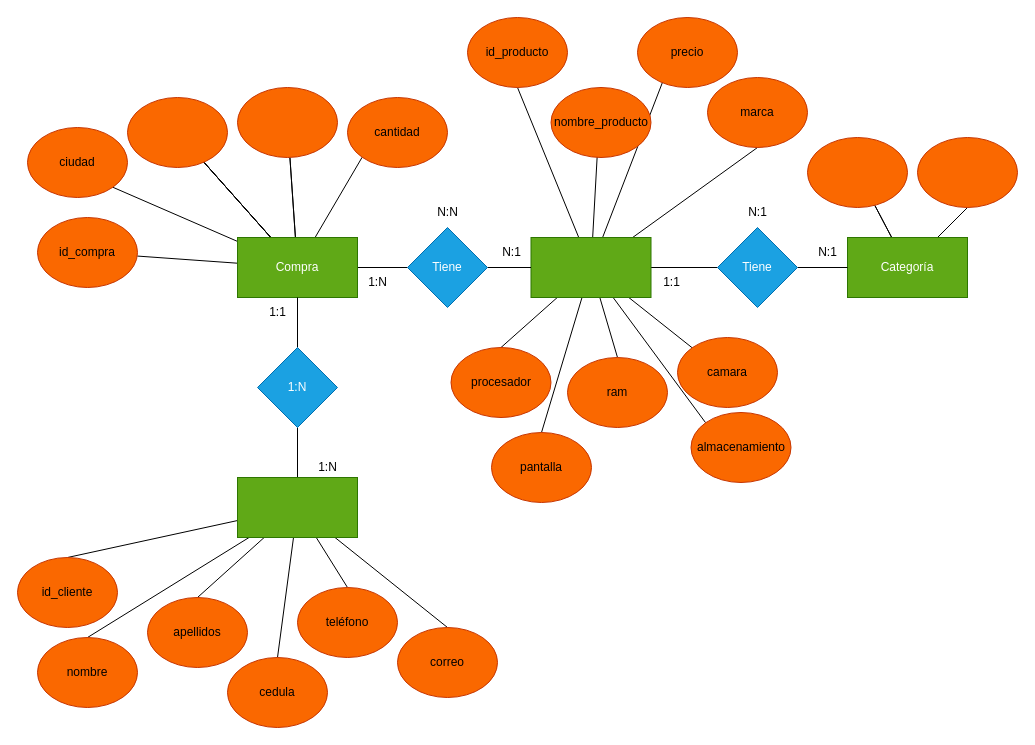
Some shapes in this 1035 by 745 pixel diagram are drawn without their labels. Here are the shapes that lost their labels. From the top down, the centre of each, then its label:
point (177, 132): fecha_compra
point (287, 122): precio_total
point (857, 172): id_categoria
point (967, 172): nombre_categoria
point (590, 267): Producto
point (297, 507): Cliente
